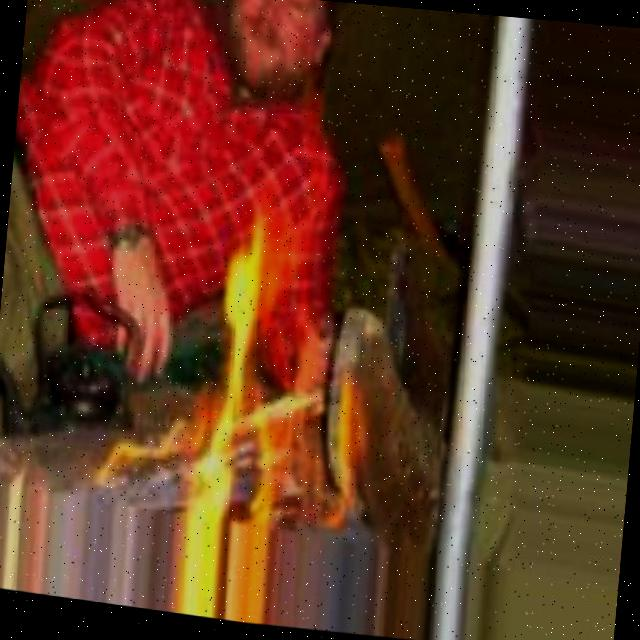fire: (114, 214, 382, 540)
